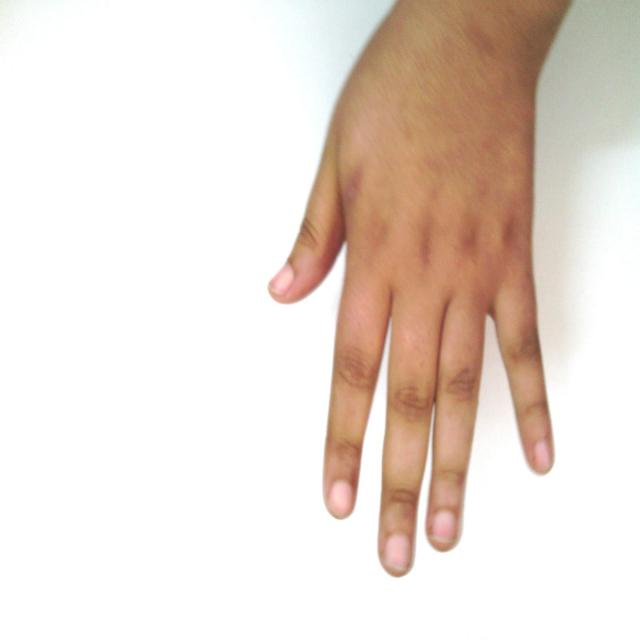others: (237, 1, 600, 577)
